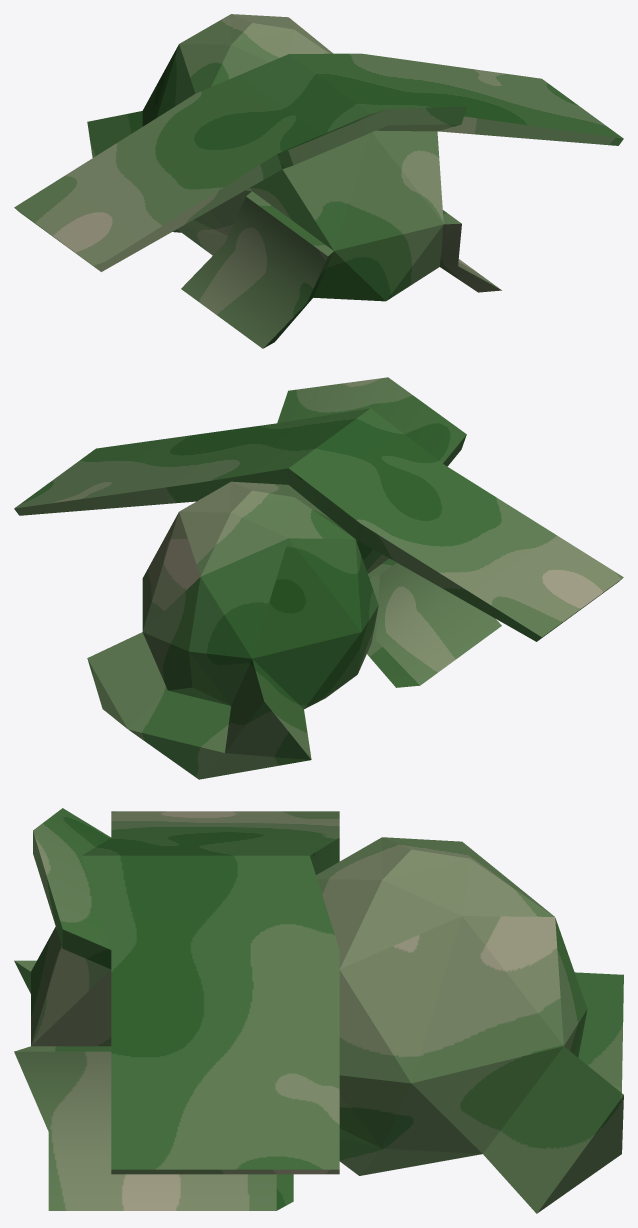
The model's file is MegaWumma.fbx.
3 renders of one model, top to bottom at view 1: azimuth 30°, elevation 25°; view 2: azimuth 150°, elevation 25°; view 3: azimuth 270°, elevation 25°, orthographic. The views are drawn at different scales.
Parts seen in each view (by area): view 1: TetraSphere; view 2: TetraSphere; view 3: TetraSphere.
Boxes of the visible parts, x1,y1,x2,y2 form: TetraSphere: (14, 14, 623, 348); TetraSphere: (14, 377, 623, 779); TetraSphere: (14, 808, 623, 1213).
Size of the model in its own units: 19.27 by 9.2 by 13.86.
Materials: 1 (1 with a texture image).
